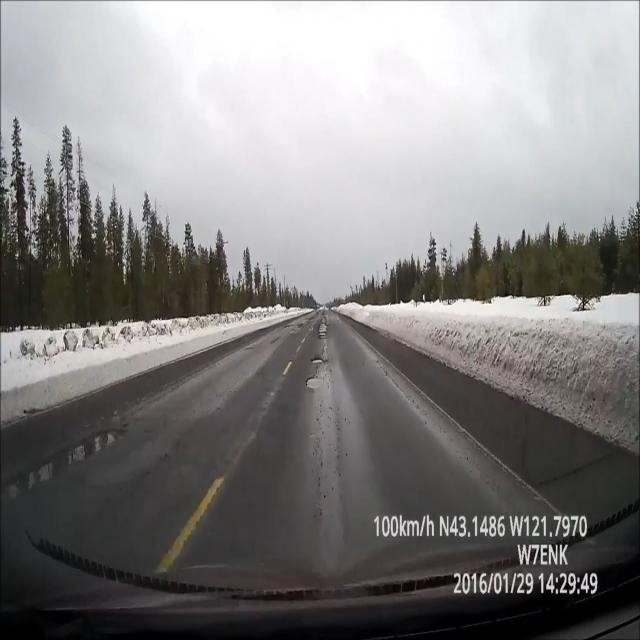Pothole: (308, 348, 329, 404), (316, 308, 327, 344)
